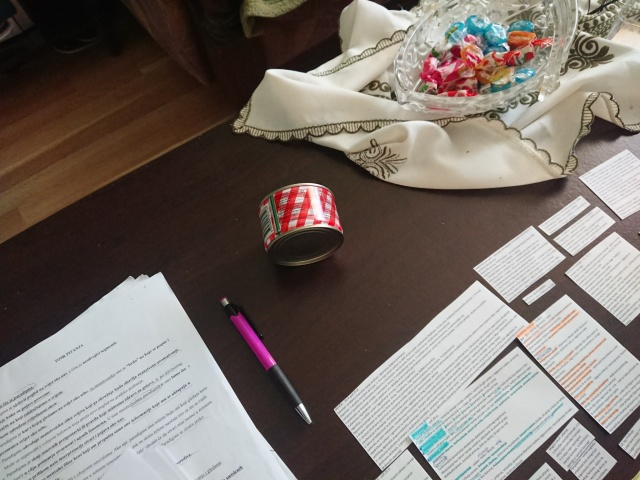Podravka Luncheon Meat 150g: (255, 181, 347, 269)
